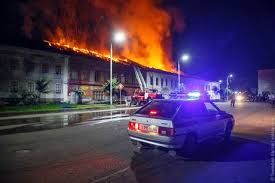fire: (47, 17, 200, 72)
